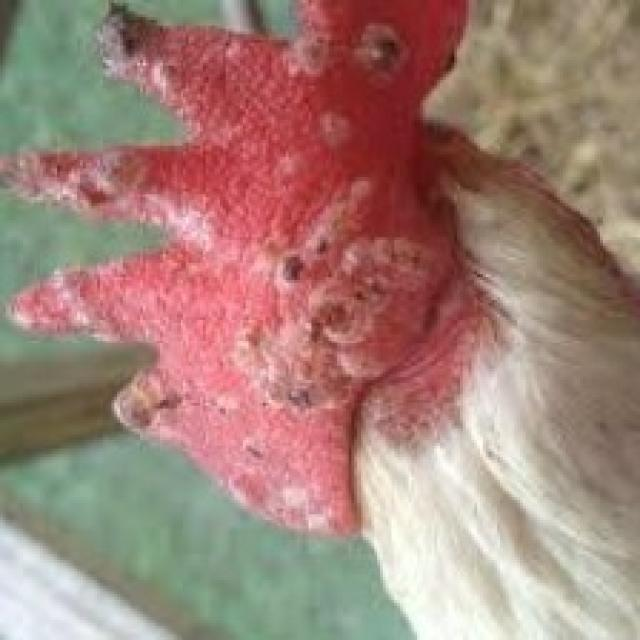Fowlpox: (0, 0, 505, 499)
